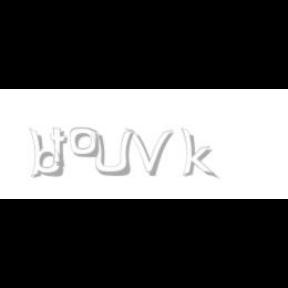U: (88, 128, 134, 178)
V: (126, 128, 174, 176)
b: (29, 128, 67, 178)
k: (180, 128, 218, 180)
o: (70, 128, 98, 158)
t: (50, 128, 72, 168)
